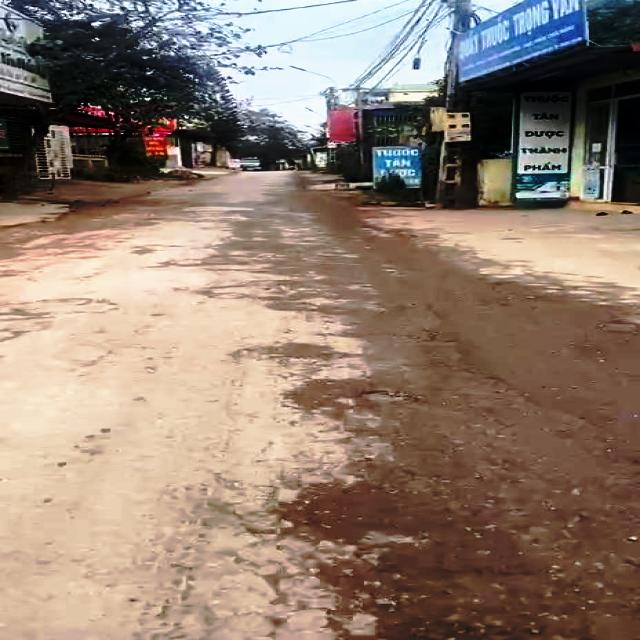pothole: (358, 382, 428, 409)
